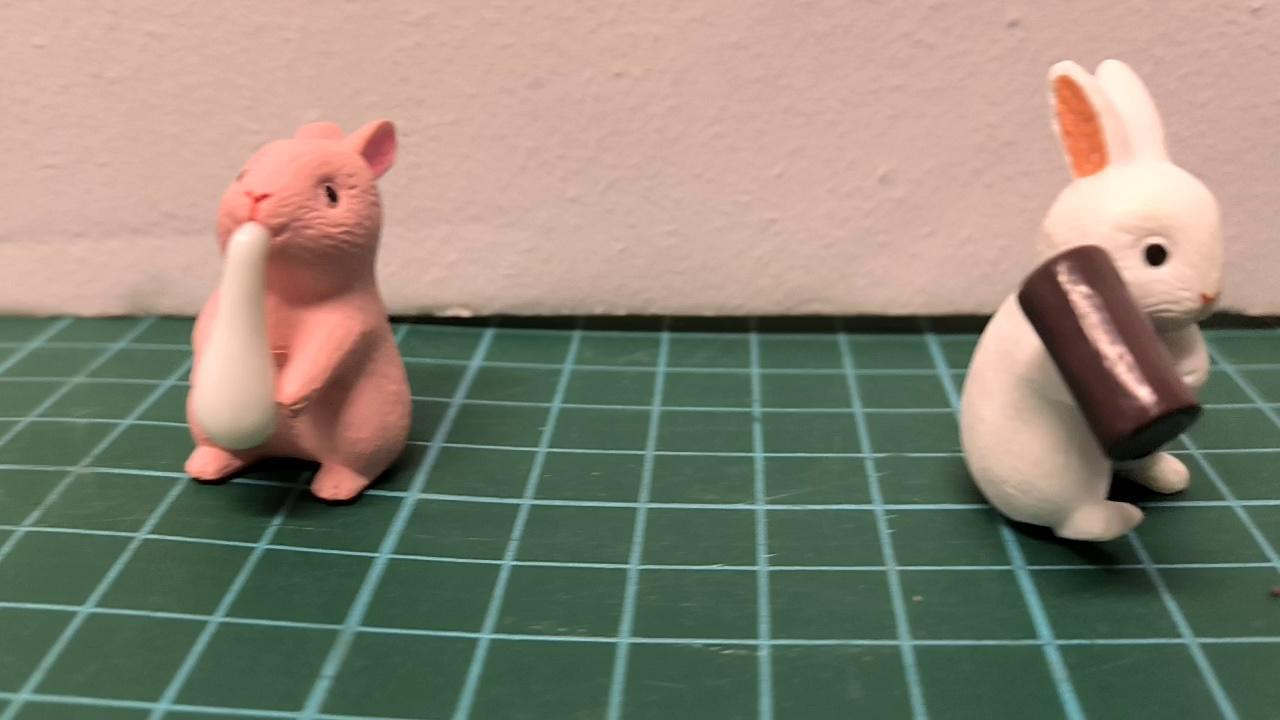pet: (958, 59, 1222, 544), (187, 116, 410, 503)
